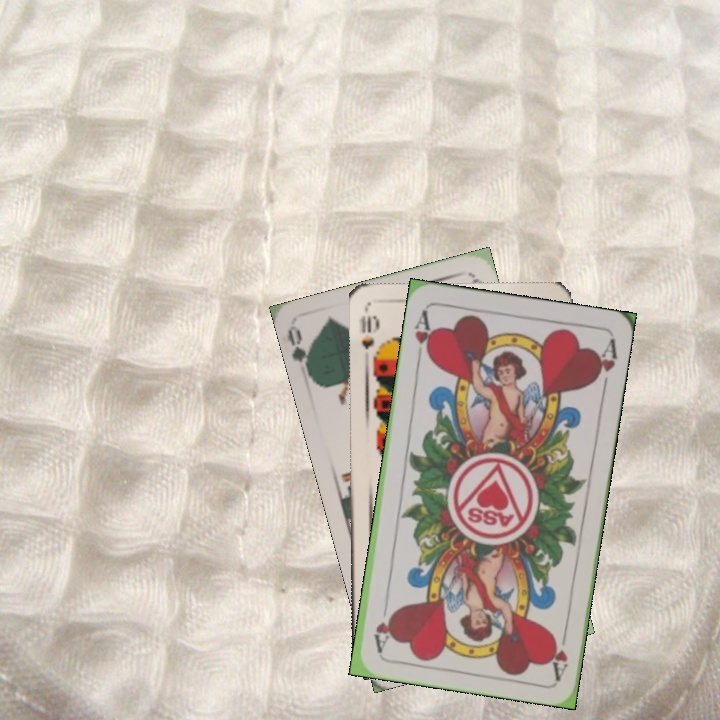GO: (284, 324, 316, 382)
HA: (411, 306, 437, 365), (546, 621, 571, 680)
S10: (356, 306, 381, 352)
